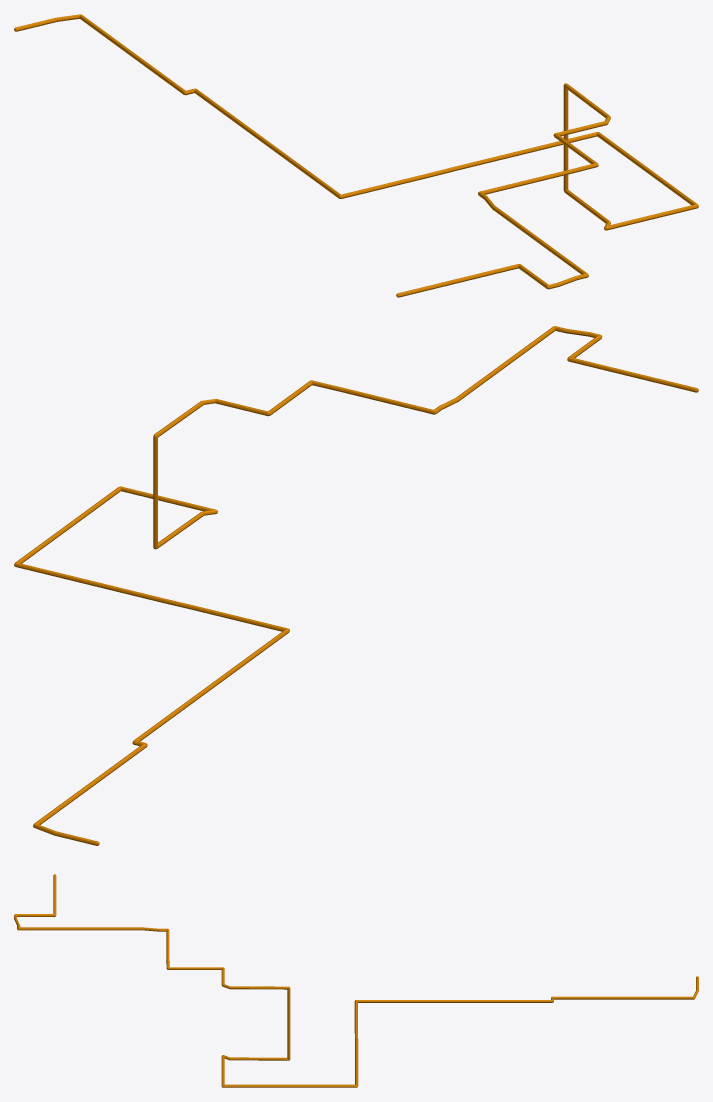
The picture shows the model from 3 angles, top to bottom: view 1: azimuth 30°, elevation 25°; view 2: azimuth 150°, elevation 25°; view 3: azimuth 270°, elevation 25°; orthographic projection. The views are drawn at different scales.
Bounding box in the file's own units: 2121 × 520 × 4363.
